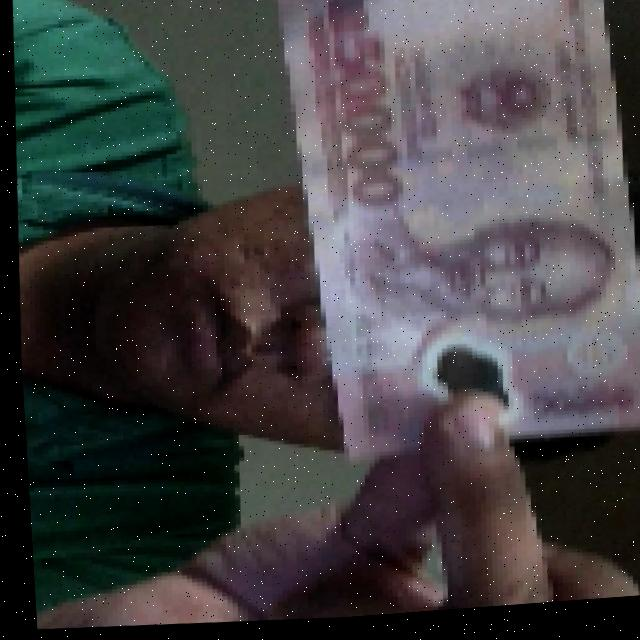50 000 VND: (249, 0, 640, 483)
